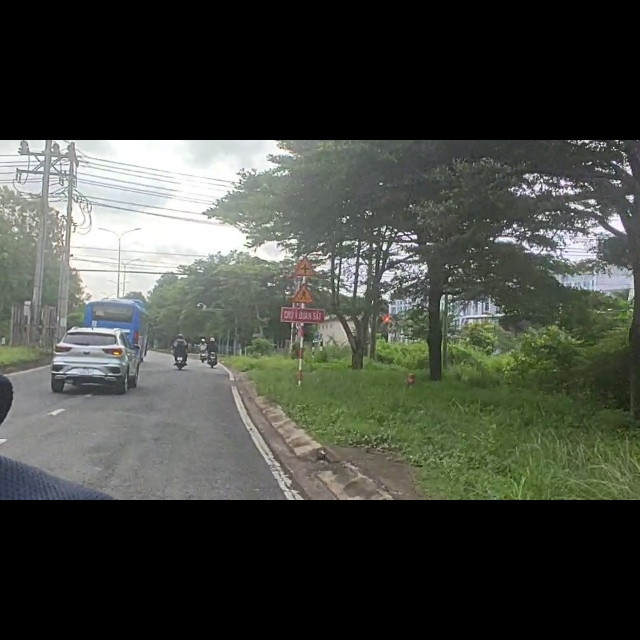bien_nguy_hiem: (291, 252, 317, 290), (293, 206, 316, 244)
